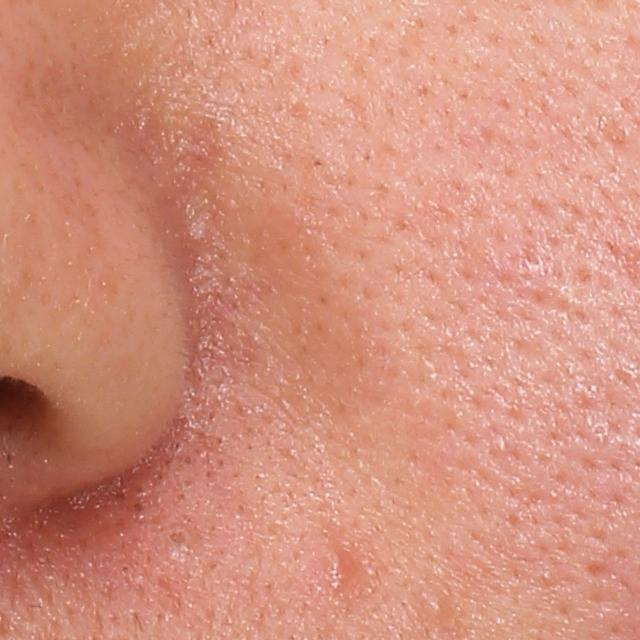comedo: (161, 524, 195, 554), (421, 591, 451, 621)
papule: (306, 524, 360, 601)
